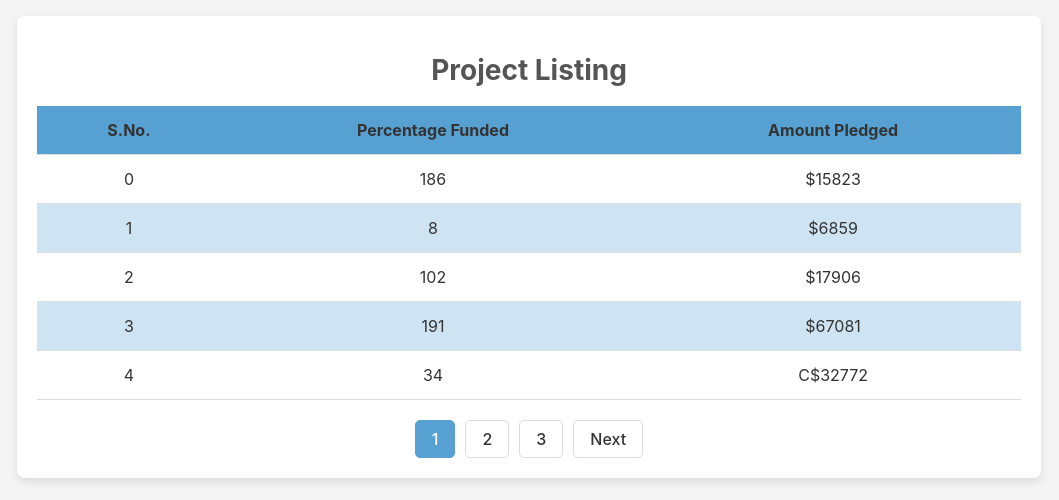
App Component › paginates correctly
What coordinates should you click on to do the following:
click the button "Next"
I would click on:
 (608, 439)
Its box is [573,420,643,458].
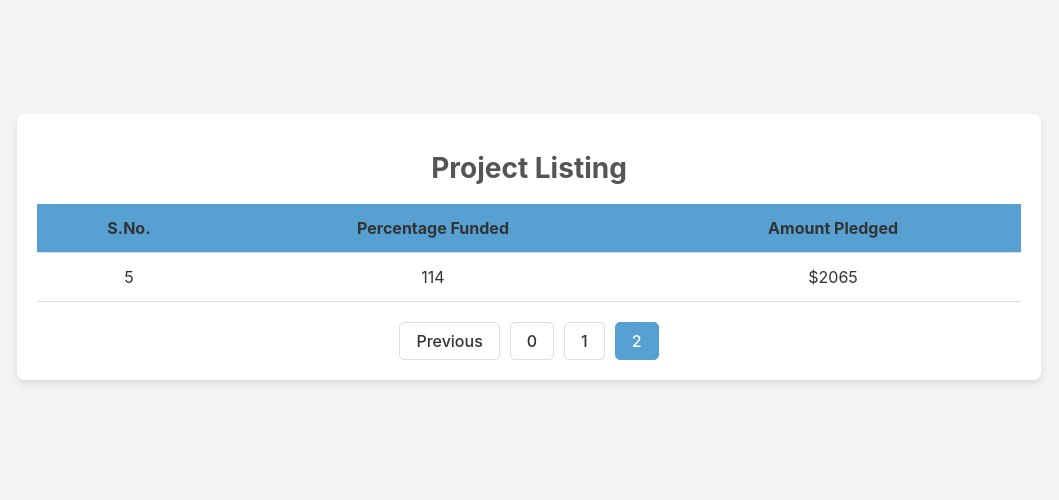
Check: the text "$2065" is shown, box [645,252,1021,301]
